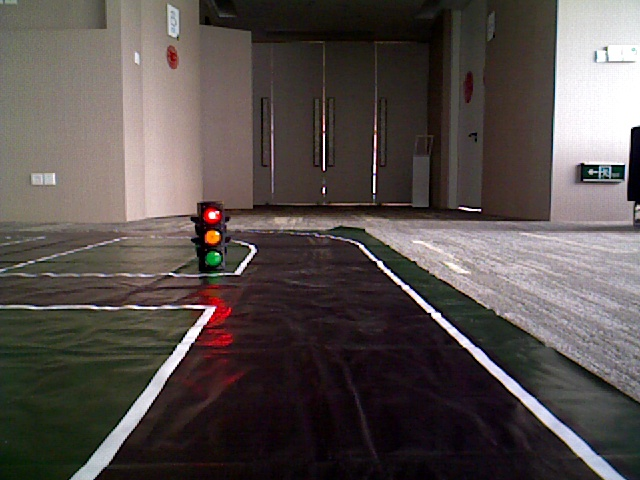red: (197, 206, 225, 265)
